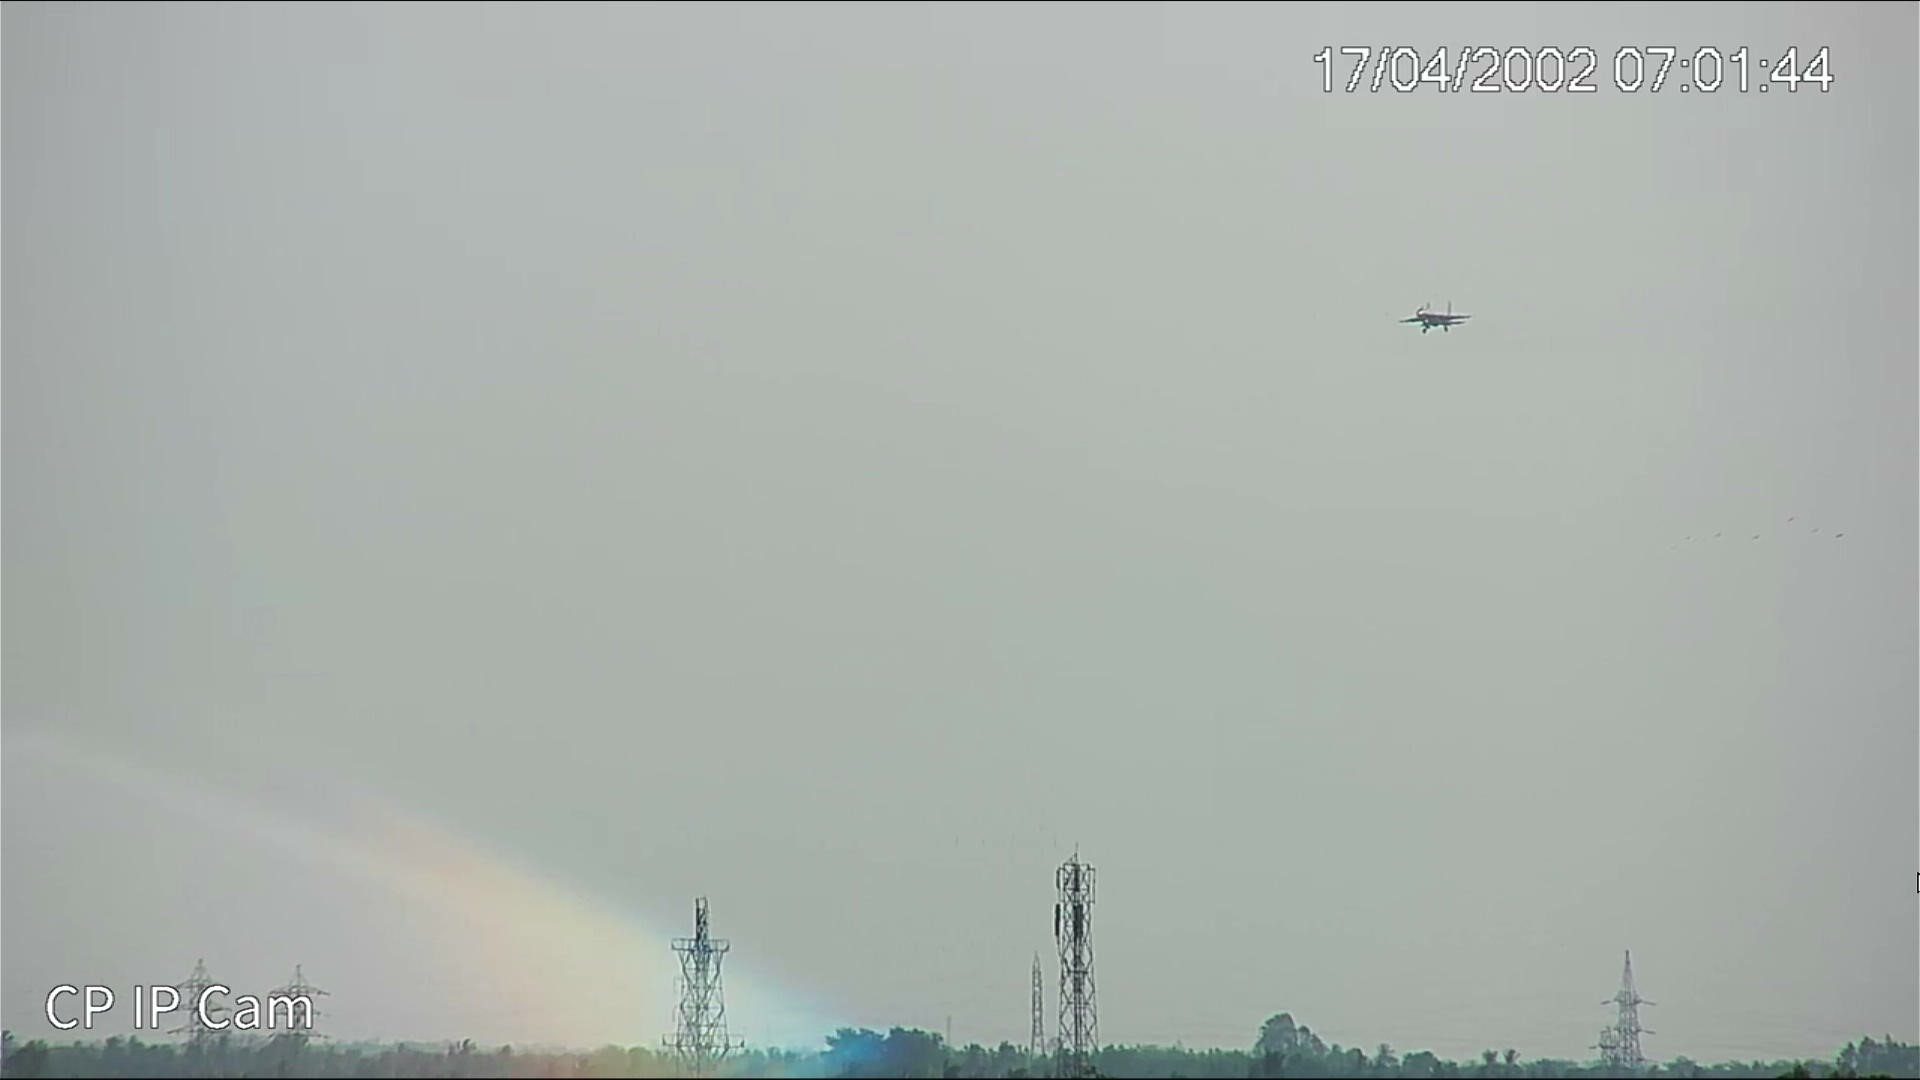SU_30: (1399, 302, 1472, 334)
